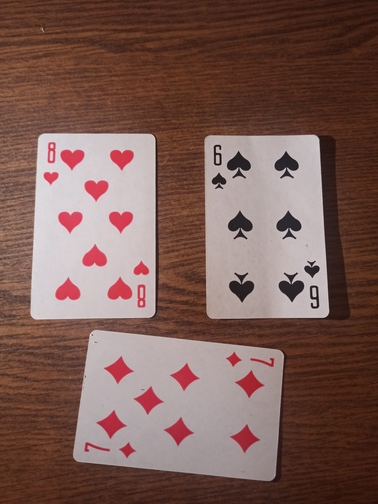eighthearts: (31, 132, 159, 323)
sevendiamonds: (71, 330, 287, 482)
sixspades: (198, 132, 335, 320)
